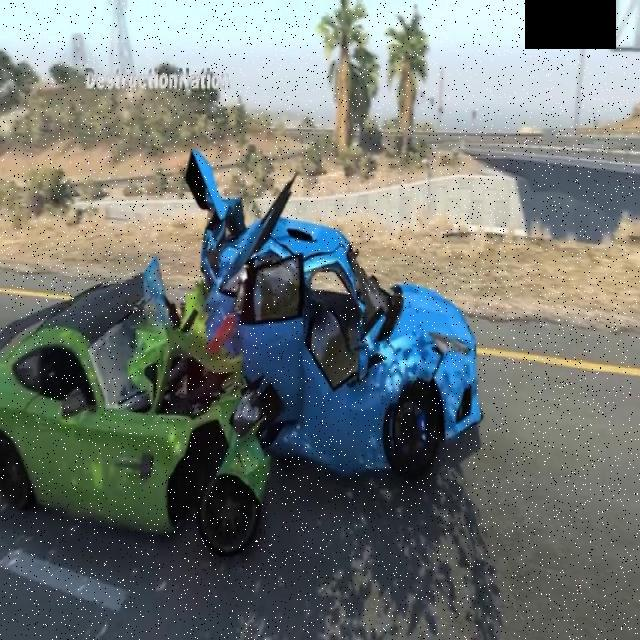severe: (0, 150, 487, 574)
